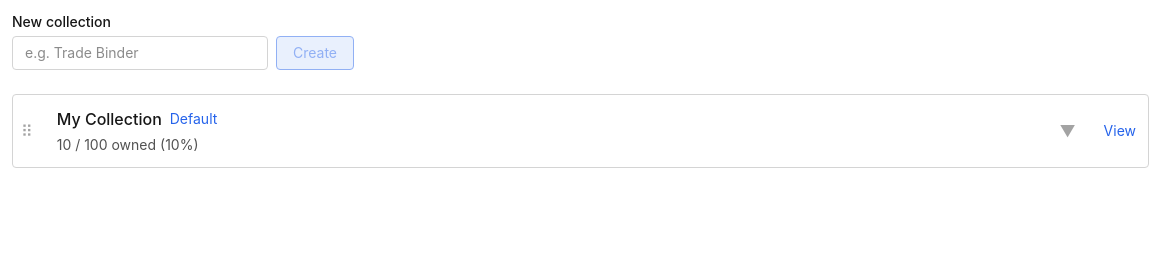
Test case: CollectionsList › creating a collection with a valid name adds it to the list
This screenshot has width=1164, height=275.
Type "Trade Binder" into the field labelled "New collection". click: {"x": 140, "y": 53}
box: [12,36,268,70]
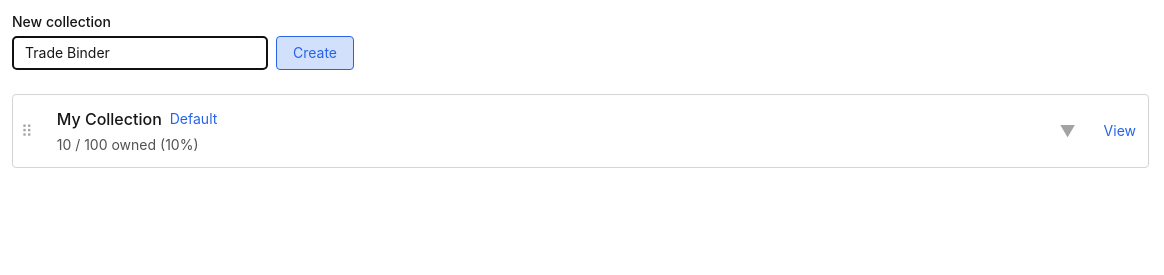
Click the button "Create". click: {"x": 315, "y": 53}
box: [276,36,354,70]
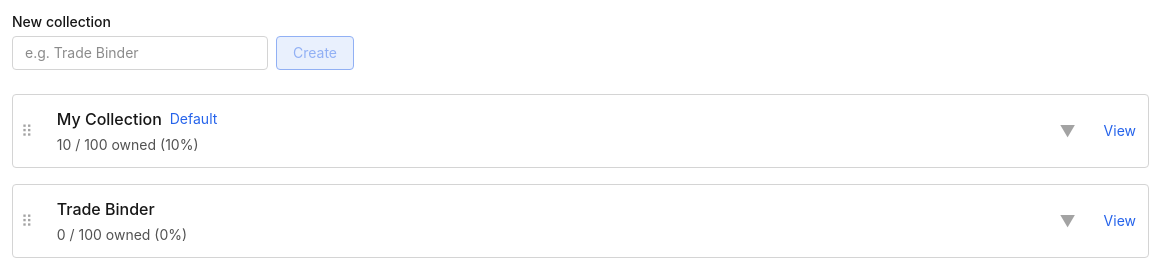
Result: the text "Trade Binder" is shown at [57,197,155,221]
